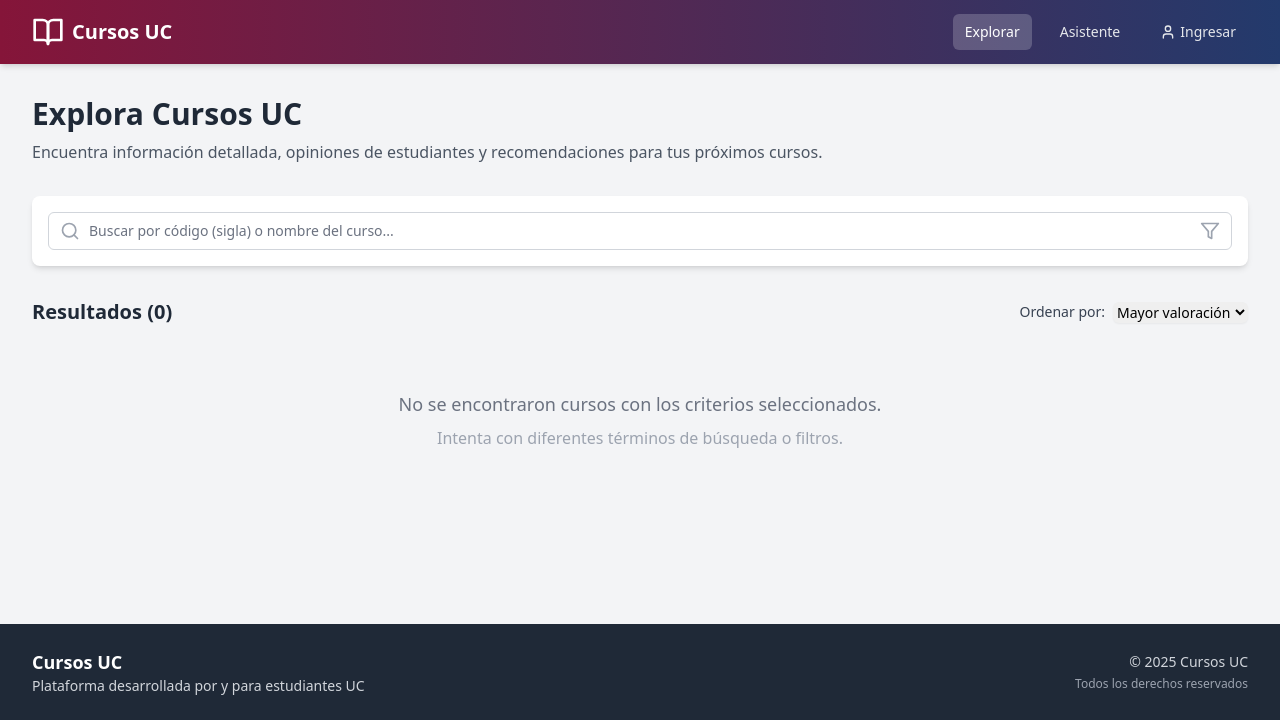
it: Navigation › should navigate back to homepage from logo
This screenshot has width=1280, height=720.
Click the link "Asistente" at (1091, 32), box [1060,22,1121,41]
(page scrolled)
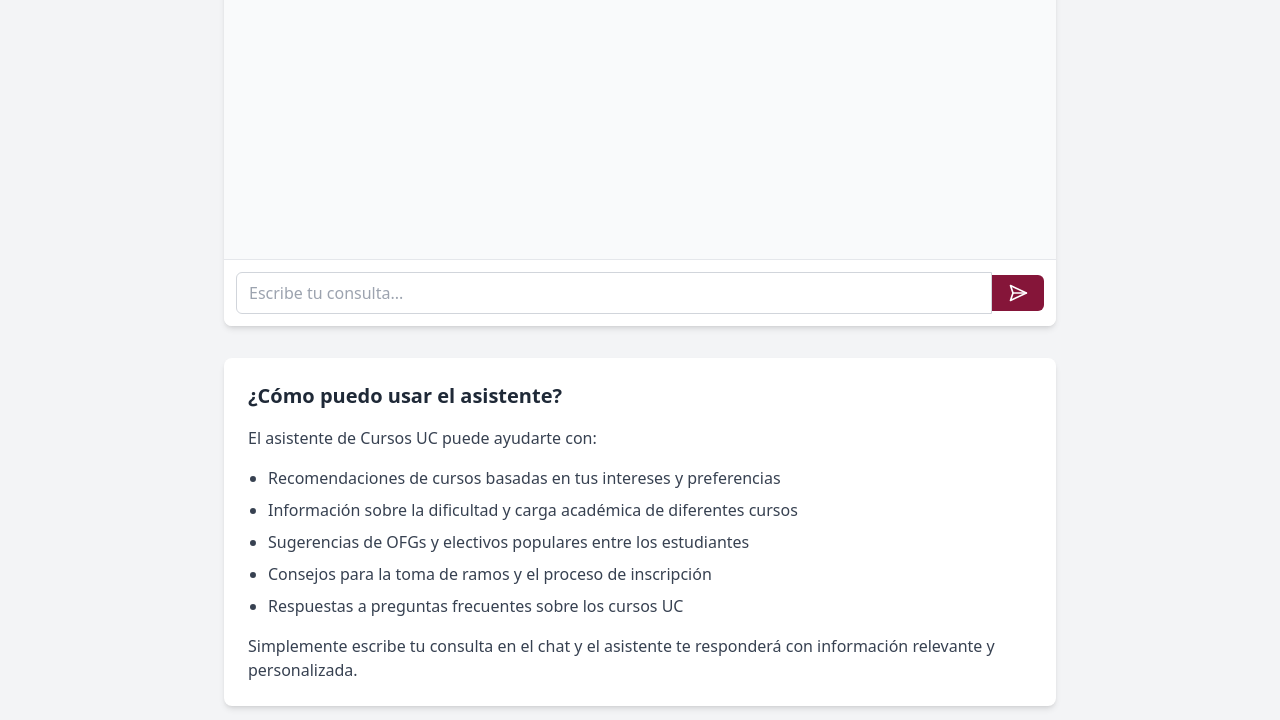
Scroll
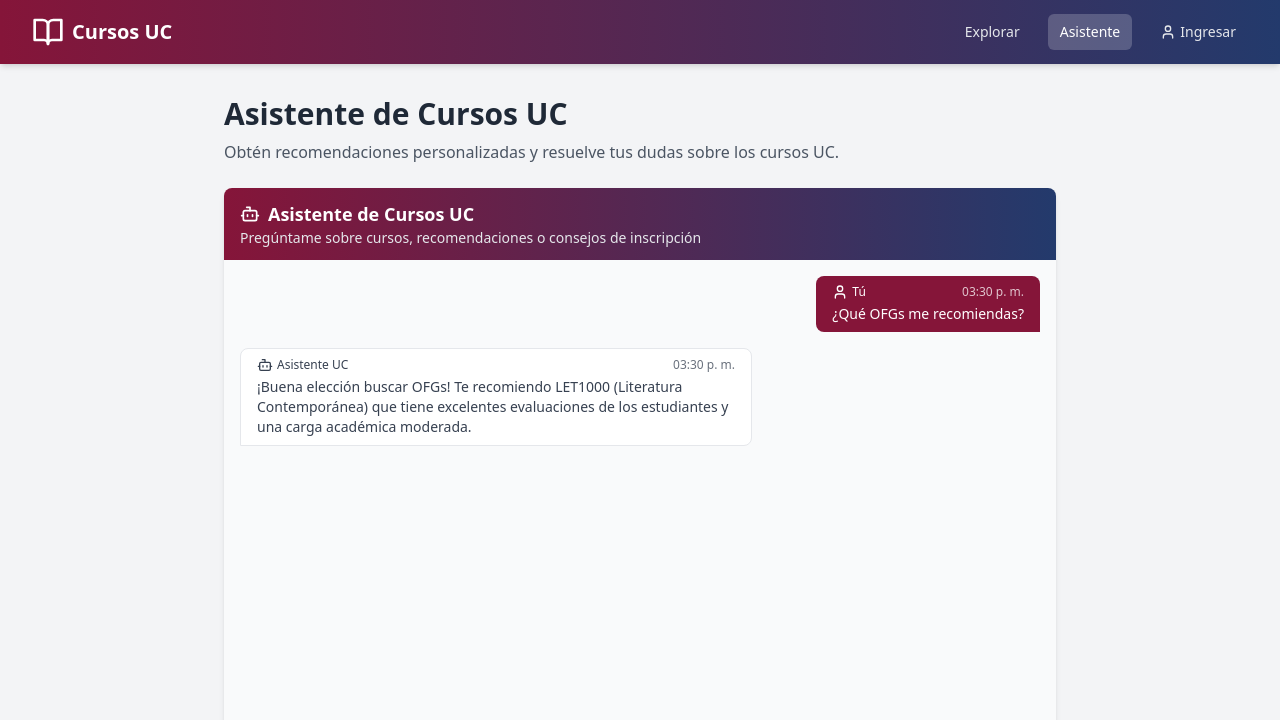
Click the link "Cursos UC" at (102, 32), box [32,16,172,48]
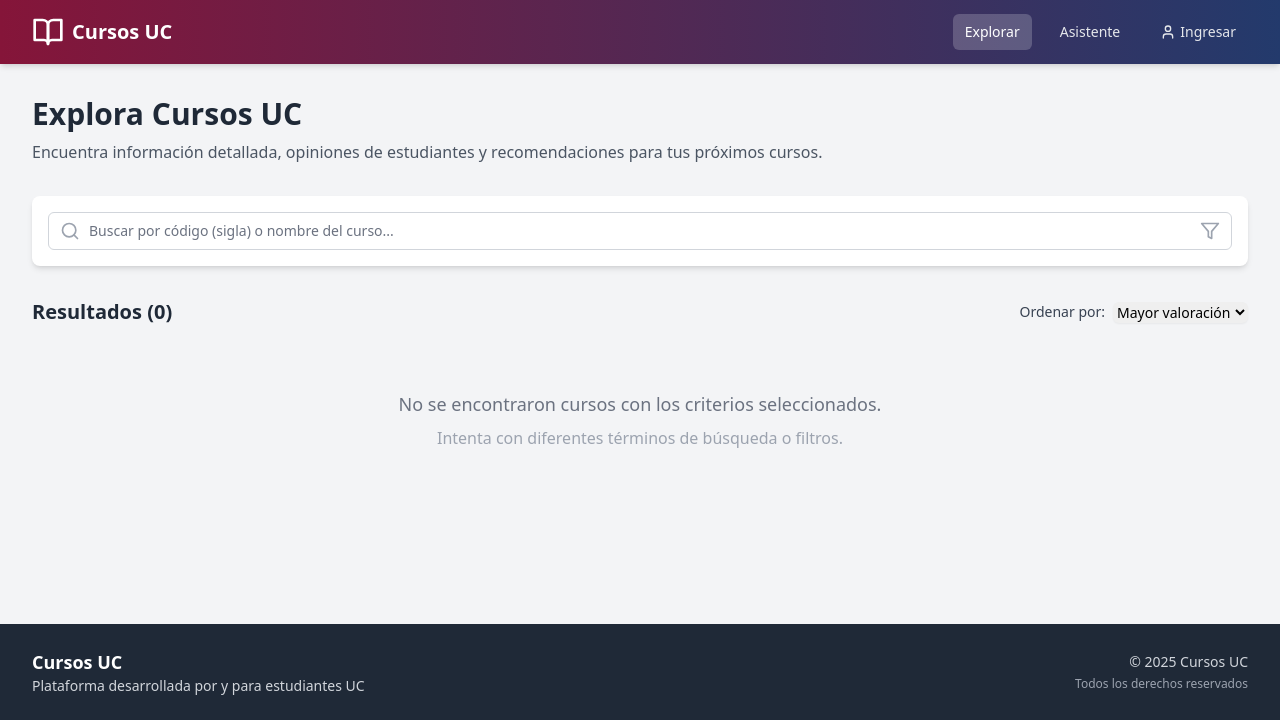
Expected: the heading "Explora Cursos UC" is shown, [32,93,302,134]
